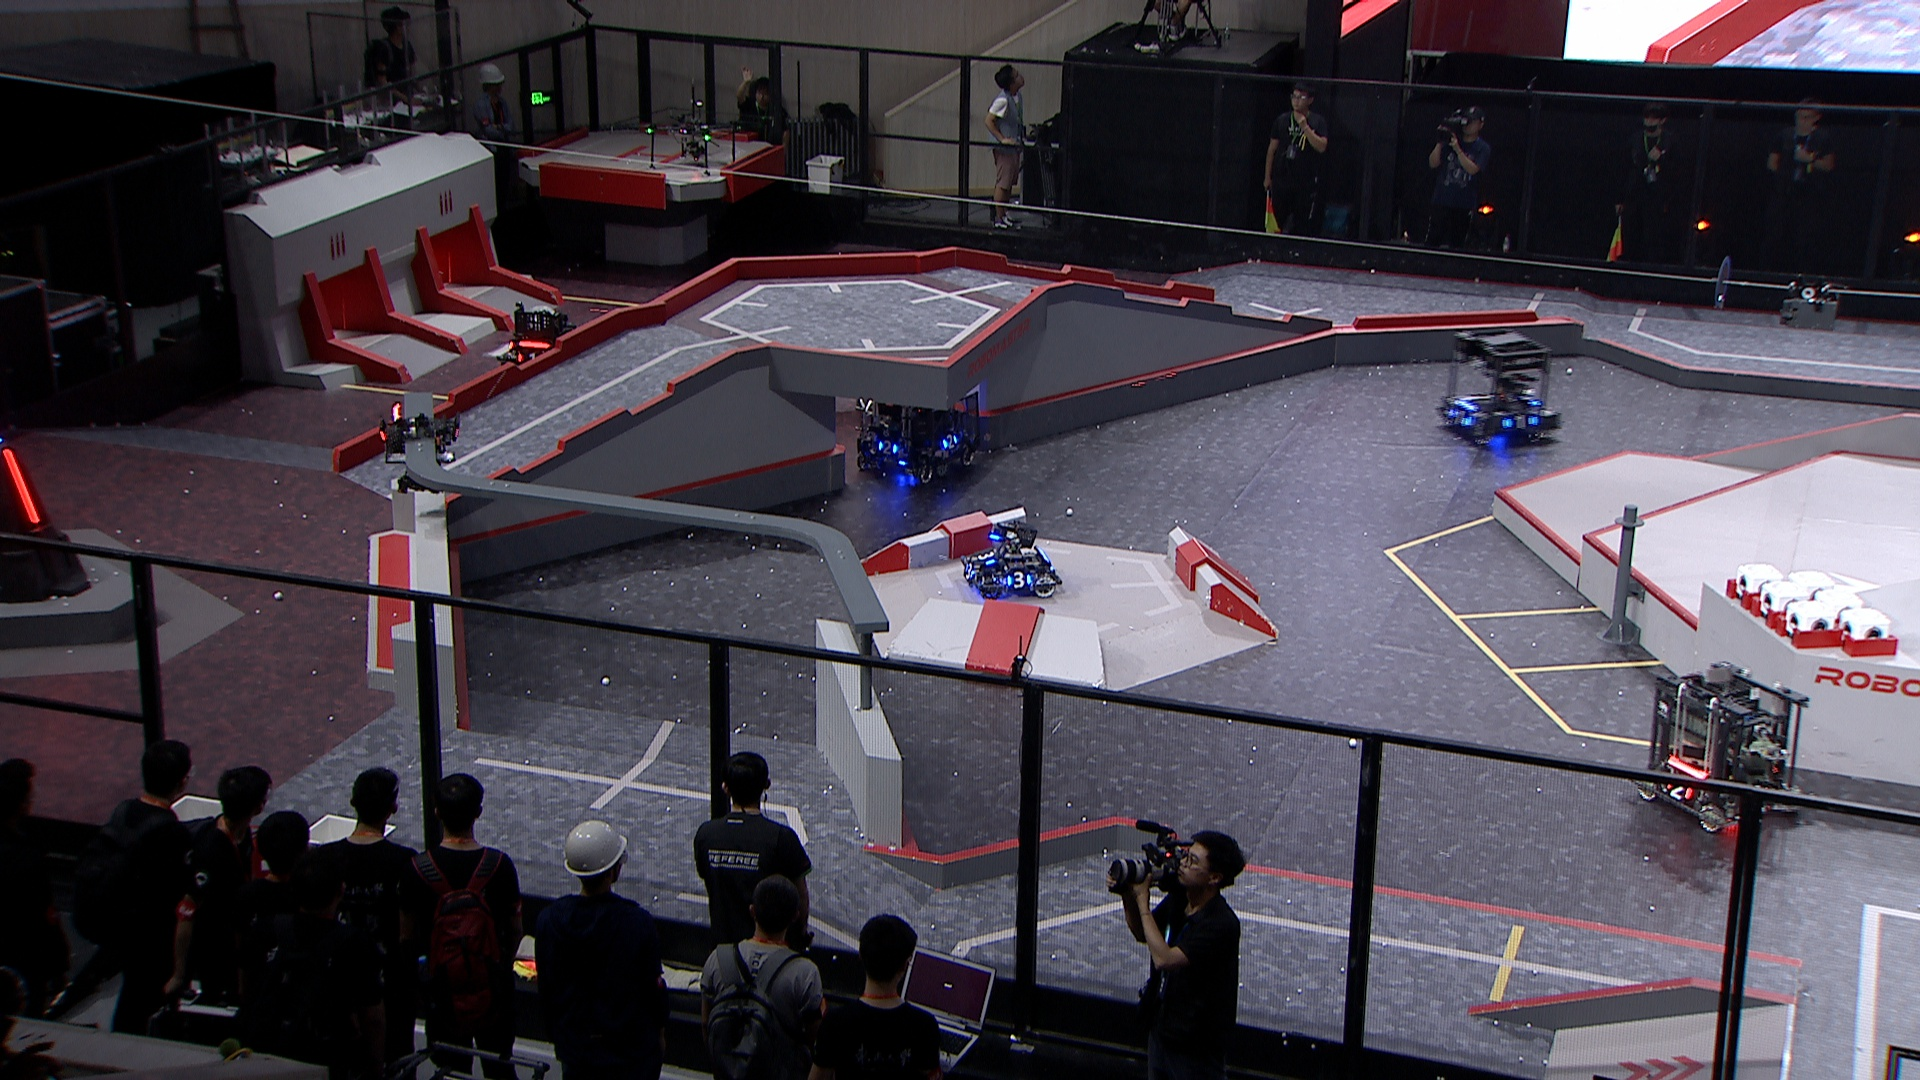armor: (1, 447, 41, 524), (1501, 410, 1538, 431), (1662, 777, 1689, 800), (1447, 401, 1470, 425), (1006, 570, 1033, 585), (874, 439, 895, 456), (1519, 392, 1543, 406), (977, 546, 996, 564), (963, 560, 978, 582), (942, 434, 960, 450), (520, 349, 538, 363)
car: (1629, 661, 1809, 823), (851, 363, 986, 489), (1436, 320, 1560, 450), (957, 520, 1060, 597), (495, 305, 582, 381)
watcher: (375, 404, 463, 495)
